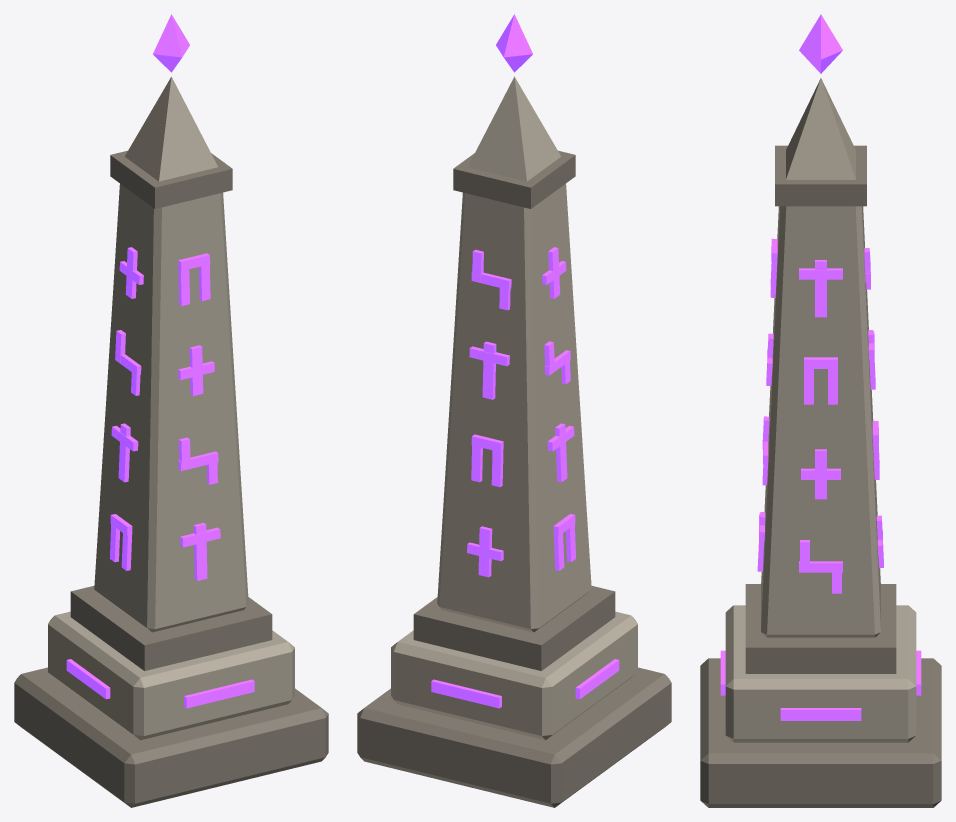
File: Obelisk.fbx
3 views of the same model, side by side, from view 1: azimuth 30°, elevation 25°; view 2: azimuth 150°, elevation 25°; view 3: azimuth 270°, elevation 25° (orthographic). The views are drawn at different scales.
Visible parts, largest first — view 1: Obelisk; view 2: Obelisk; view 3: Obelisk.
Boxes of the visible parts, x1,y1,x2,y2 form: Obelisk: (14, 14, 328, 807); Obelisk: (357, 14, 671, 807); Obelisk: (700, 14, 941, 807).
Bounding box in the file's own units: 1.2 × 4.1 × 1.2.
